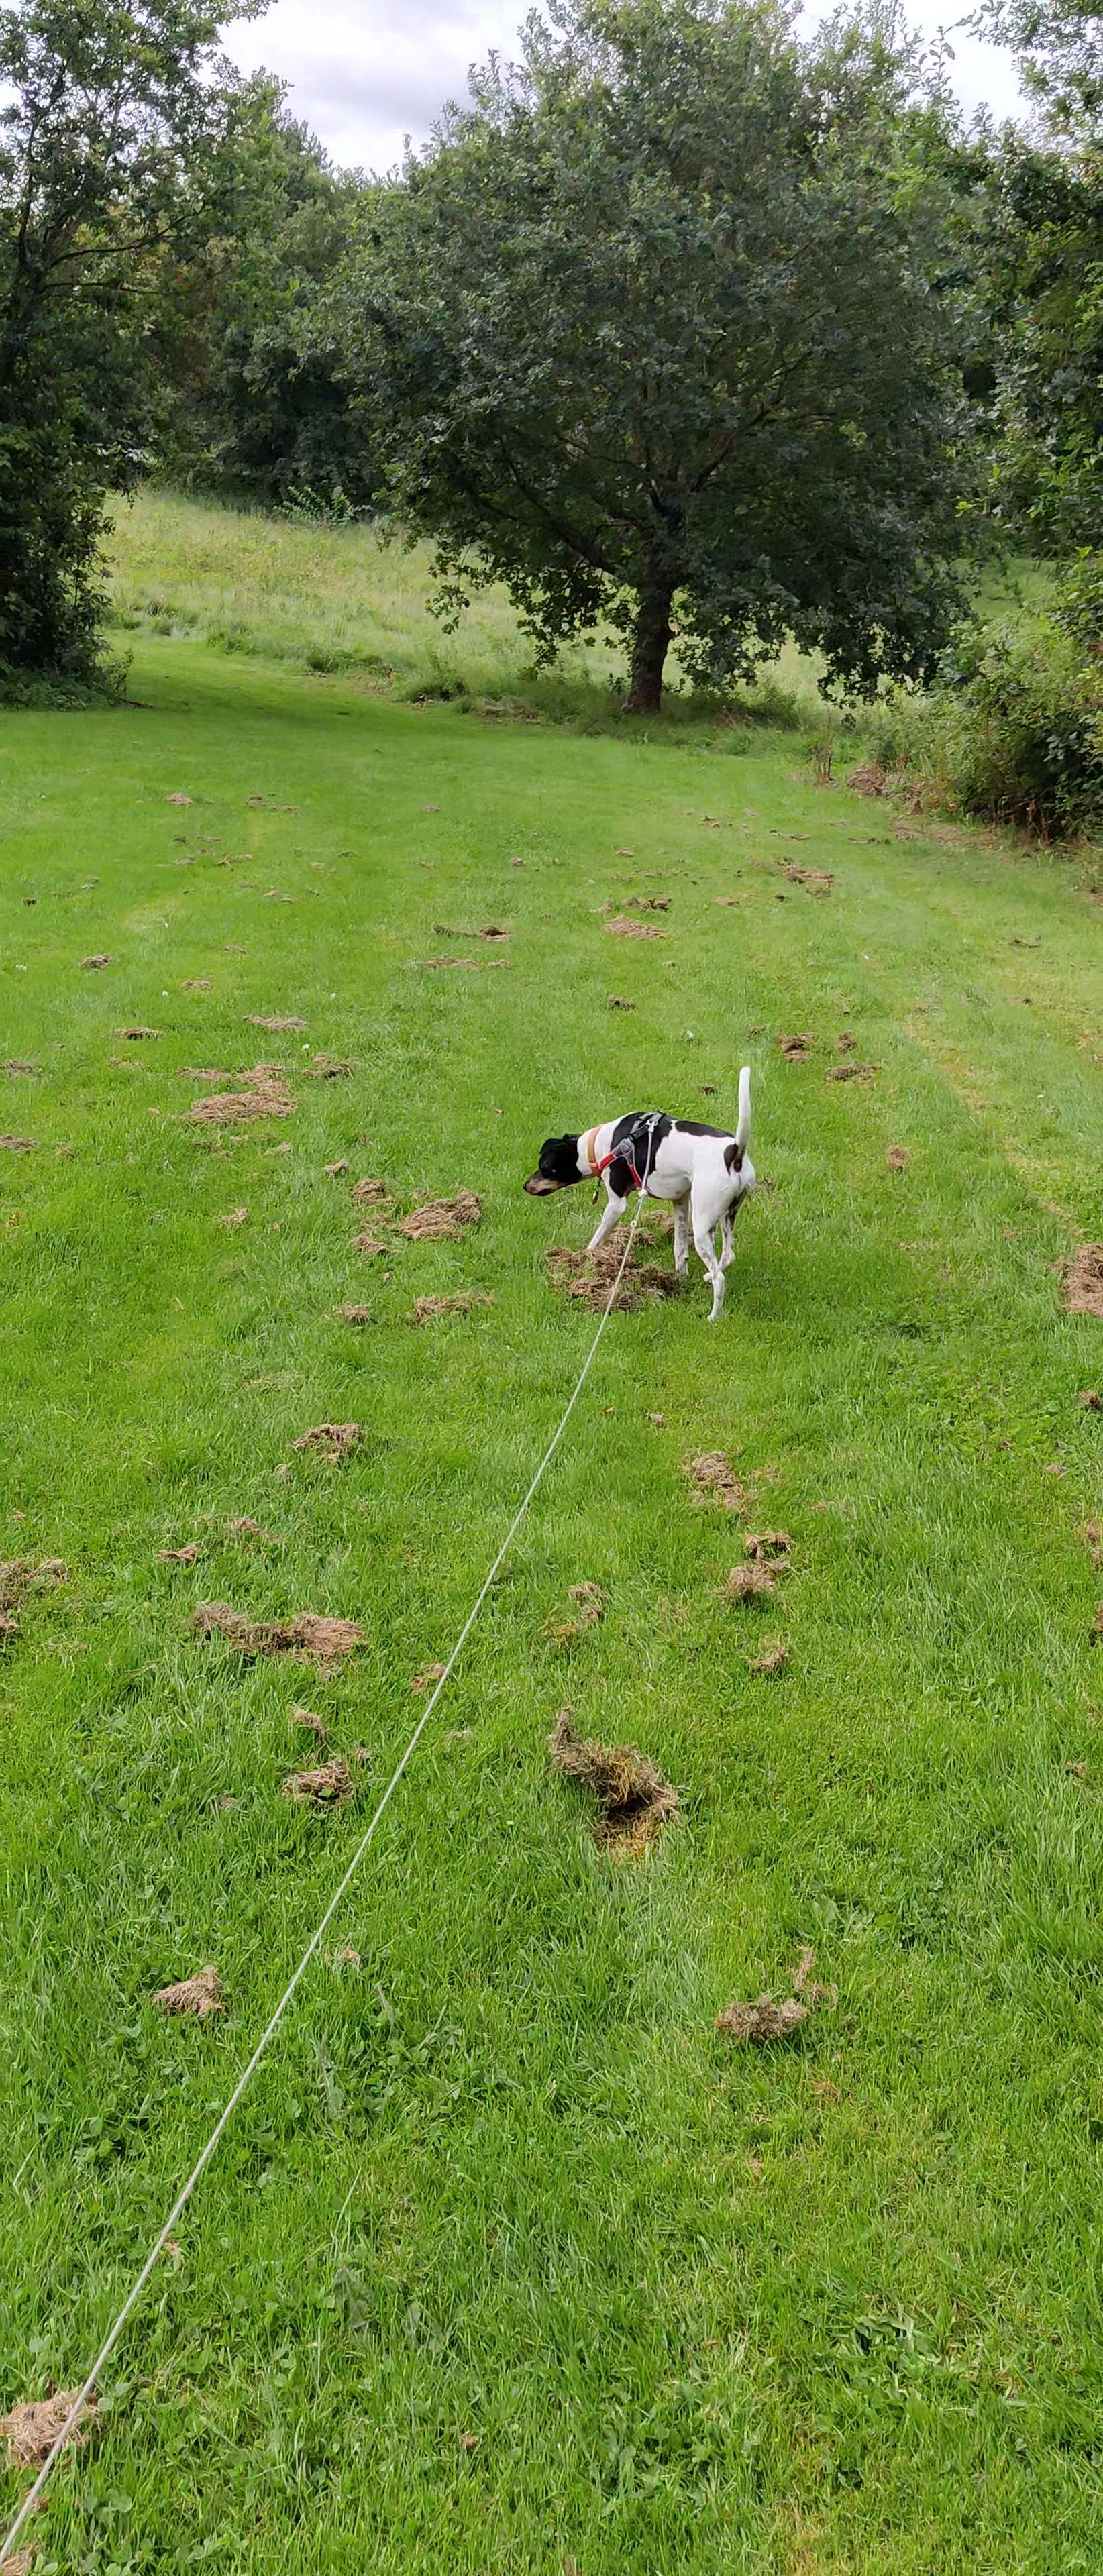Dog: (518, 1063, 771, 1326)
